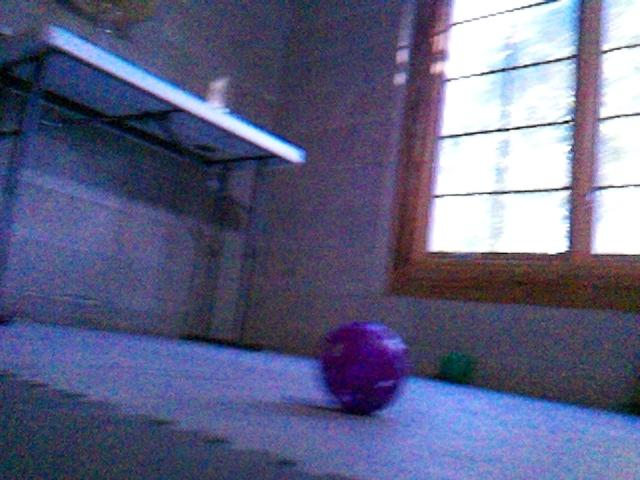Green: (437, 351, 475, 384)
Purple: (313, 319, 410, 416)
